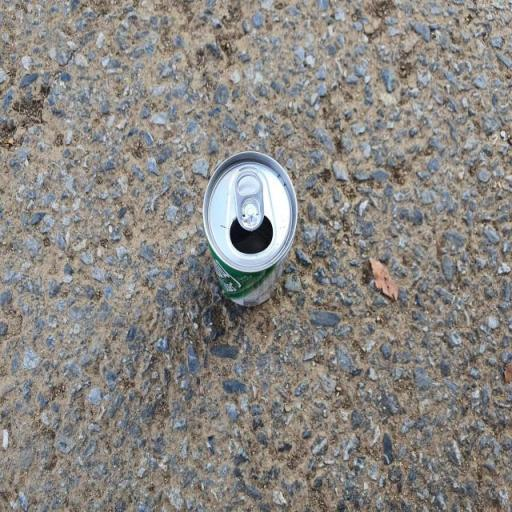metal: (184, 139, 316, 327)
